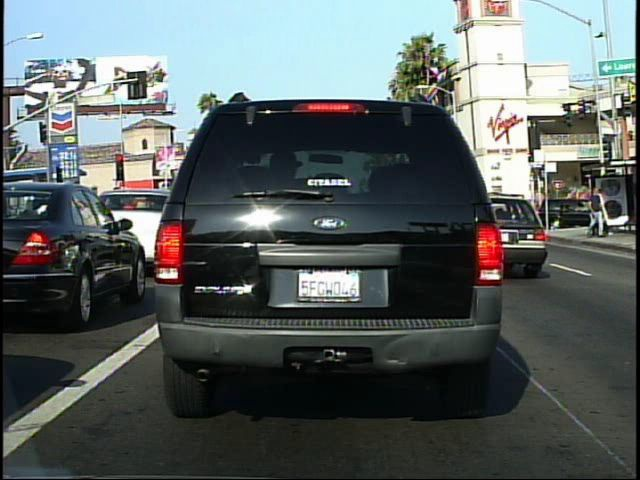person: (586, 185, 607, 242), (597, 184, 616, 241)
